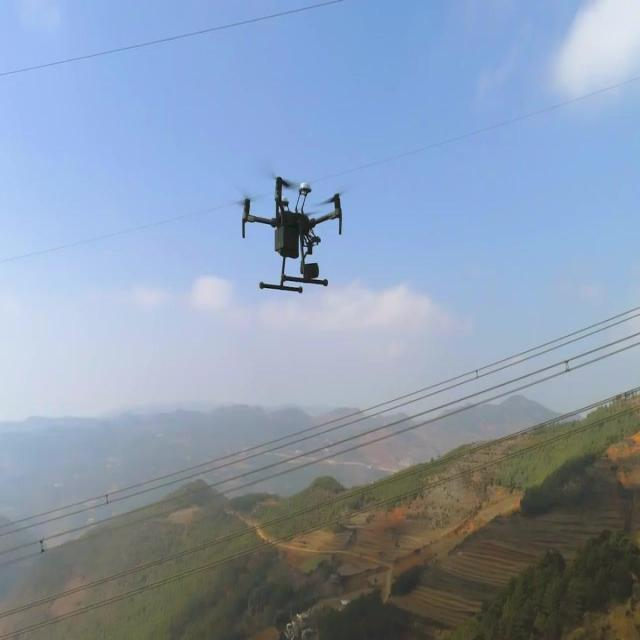drone: (235, 169, 348, 297)
